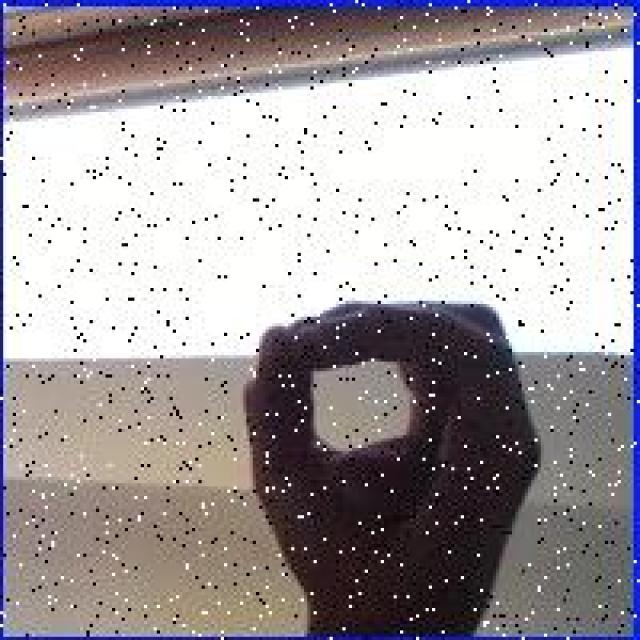O: (240, 285, 554, 630)
